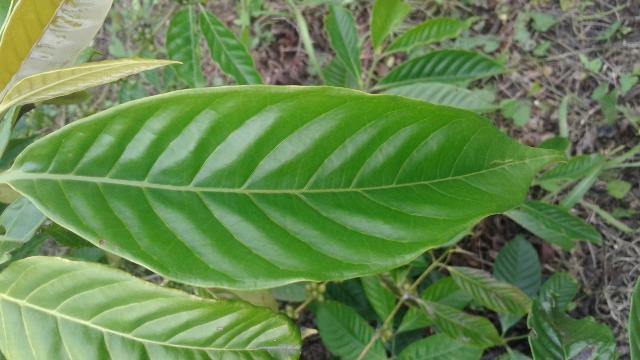healthy: (6, 89, 568, 294)
